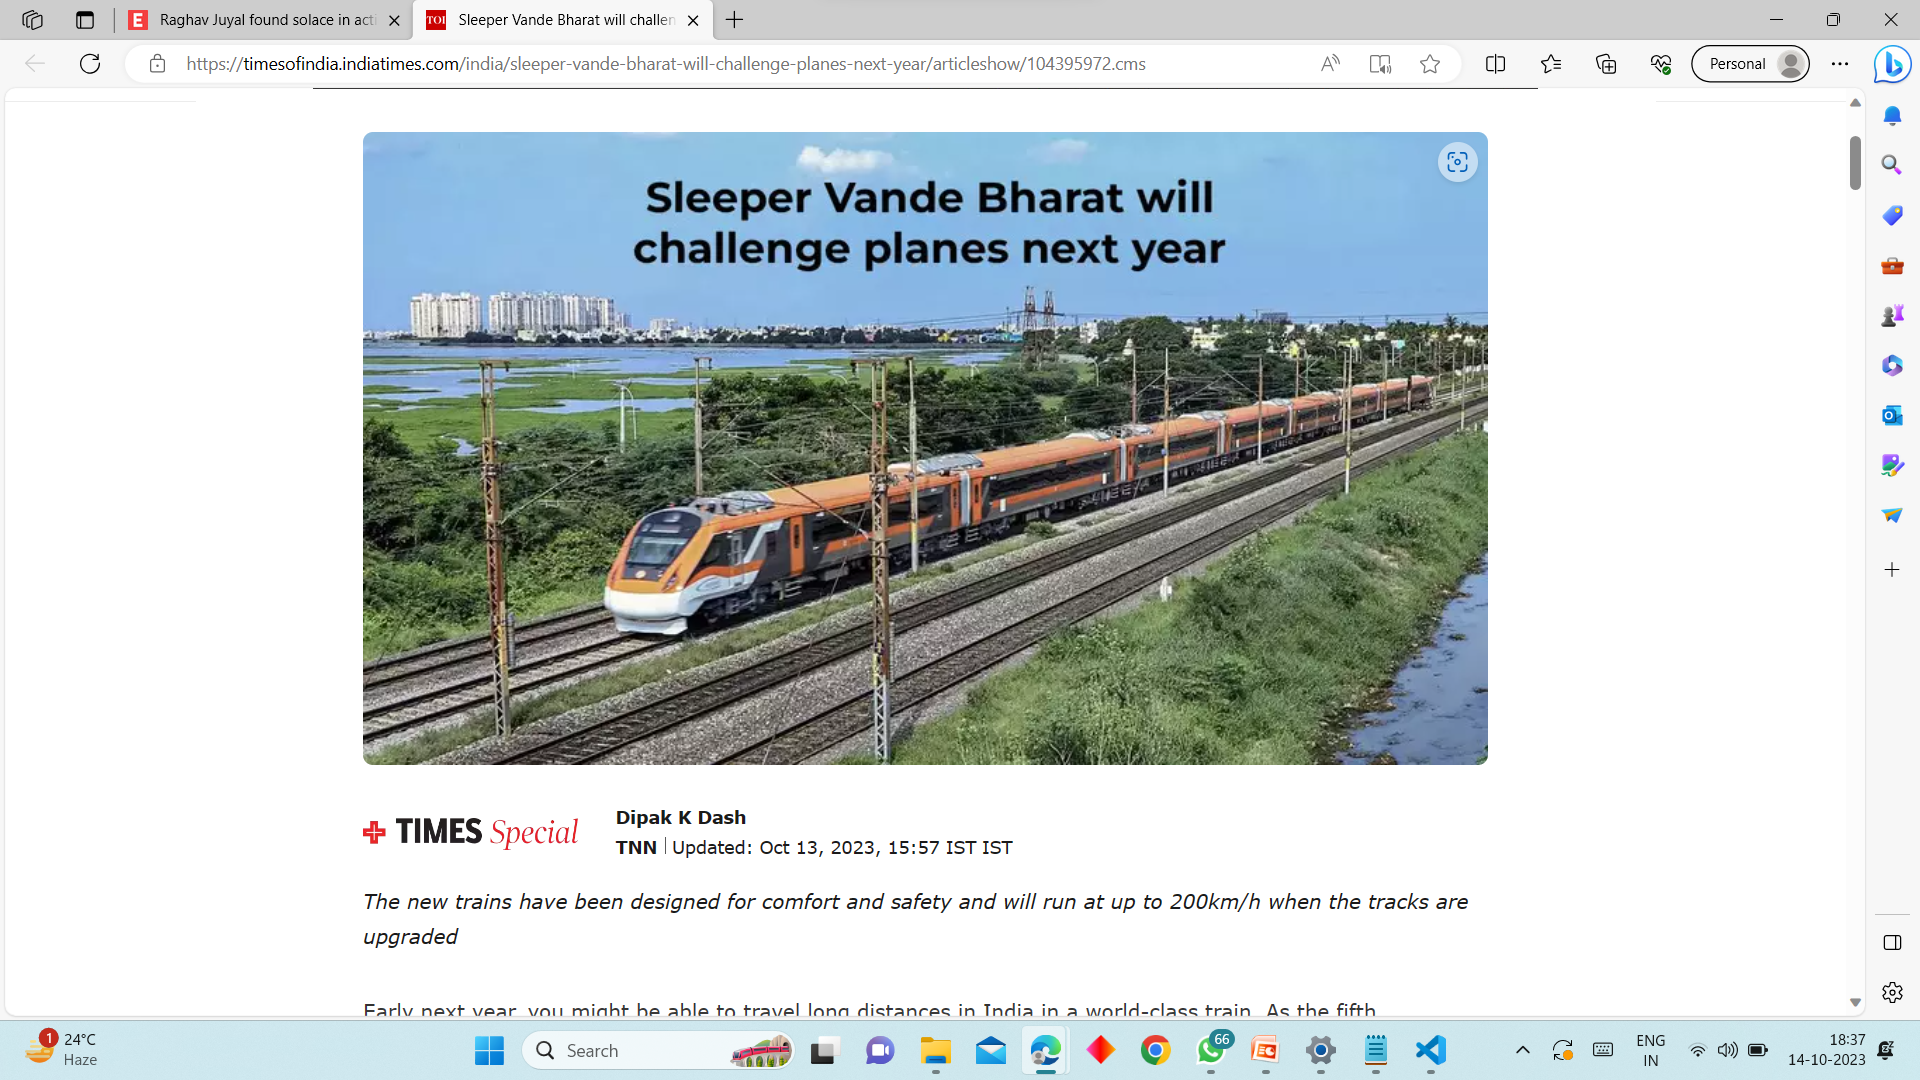Image: (335, 109, 1520, 767)
Paragraph: (364, 881, 1501, 968), (363, 800, 584, 861), (613, 833, 1035, 864), (608, 798, 767, 833)
